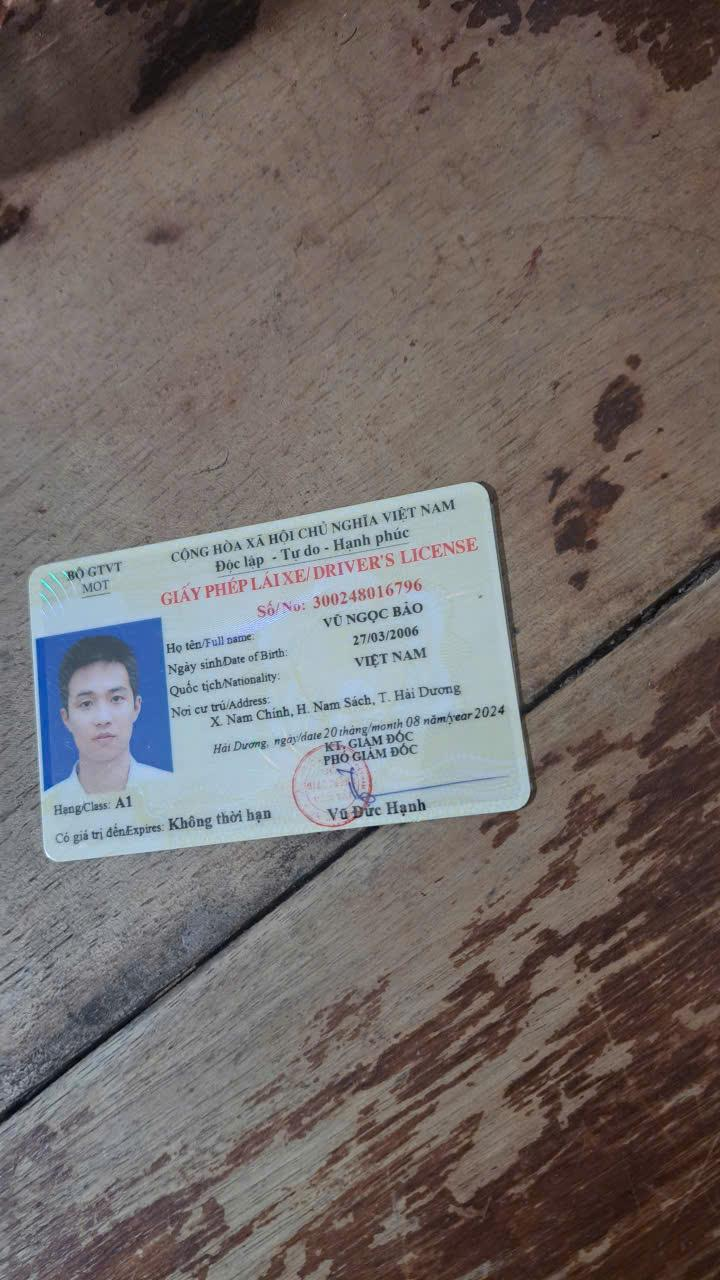gplx: (24, 477, 540, 868)
